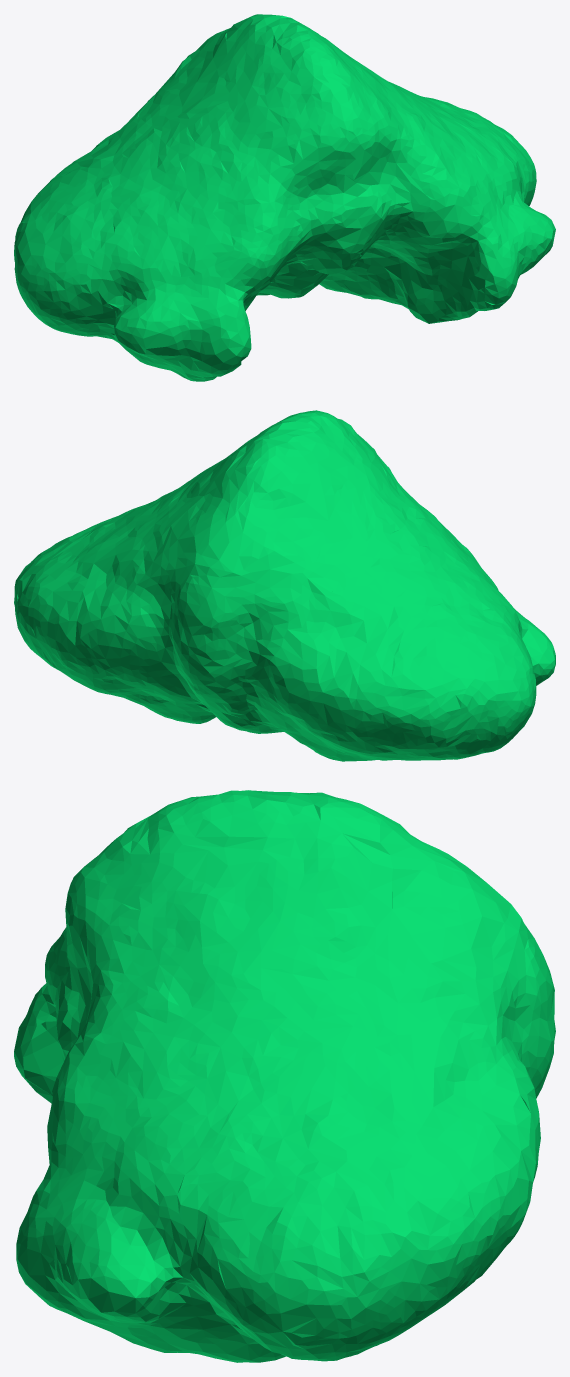
The model's file is 11-Cb-cerebellum-('0.0000', '1.0000', '0.4980').obj.
3 renders of one model, top to bottom at view 1: azimuth 30°, elevation 25°; view 2: azimuth 150°, elevation 25°; view 3: azimuth 270°, elevation 25°, orthographic. The views are drawn at different scales.
Size of the model in its own units: 258 by 148 by 156.
